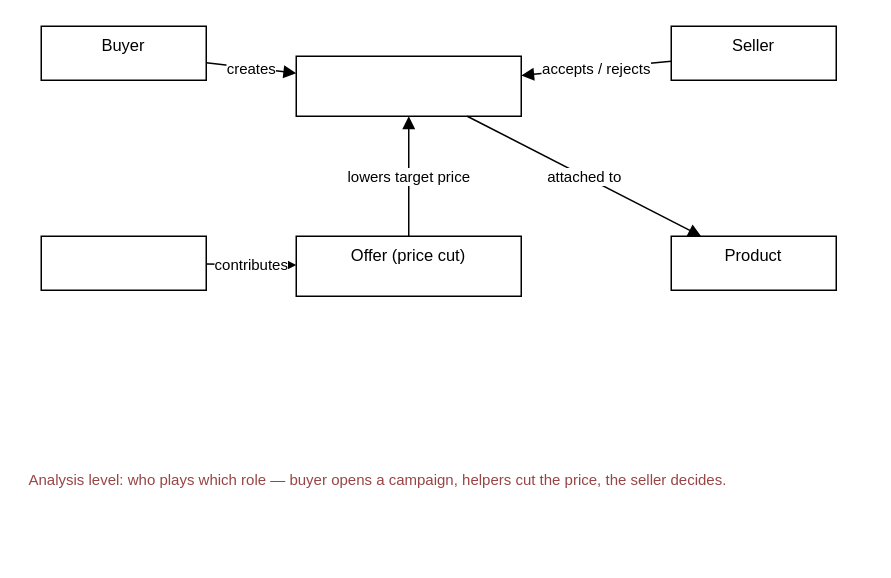
The diagram is 891 pixels wide and 578 high, and some of its shapes have lost their labels. The box of each missing label's shape, as (x1, y1, x2, y2) in pixels:
BargainCampaign: (295, 55, 521, 116)
Helper: (40, 235, 206, 290)
